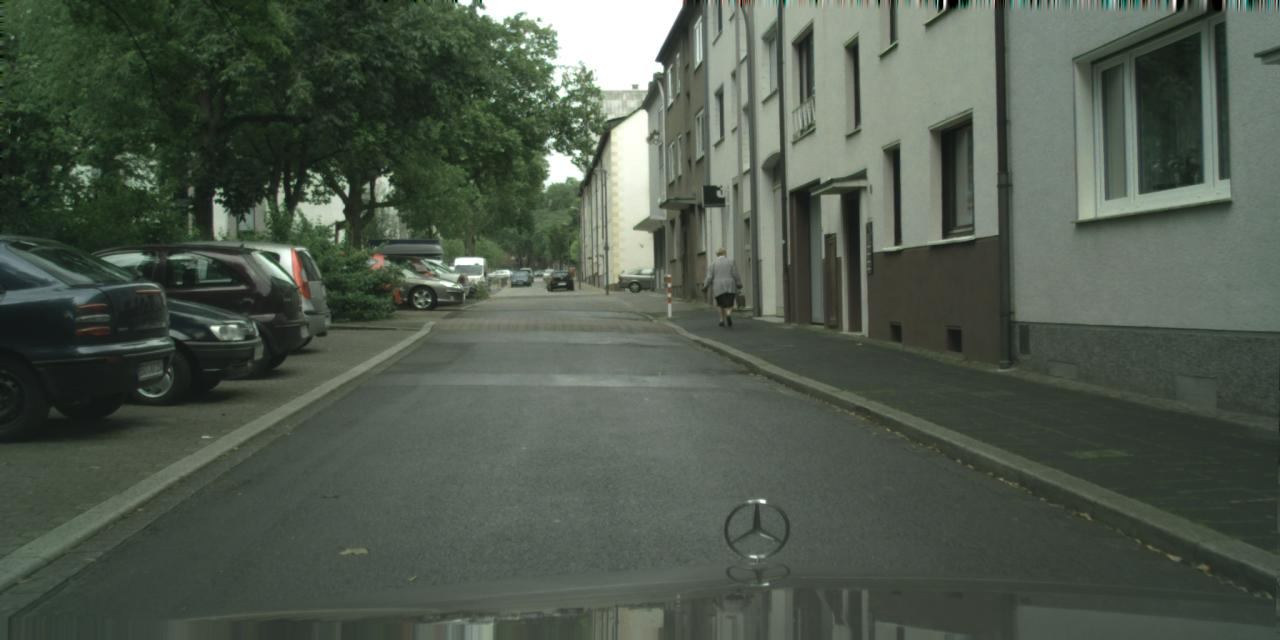ped: (707, 246, 739, 328)
